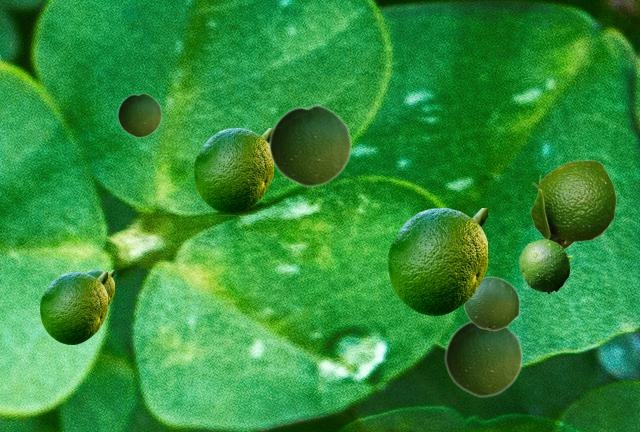dalandan: (388, 208, 486, 314), (529, 160, 615, 249), (268, 104, 351, 187), (194, 128, 272, 212), (444, 320, 522, 397), (40, 272, 106, 343), (463, 276, 519, 330), (519, 239, 571, 293), (117, 92, 161, 137), (85, 270, 113, 306)
